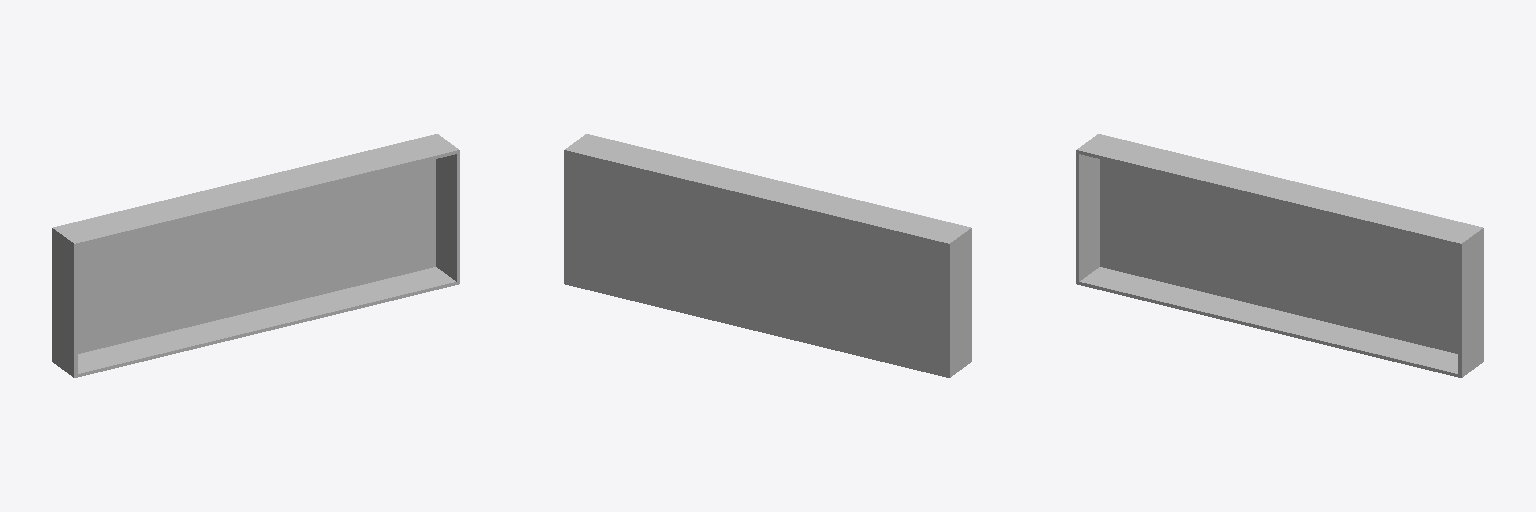
The picture shows the model from 3 angles: view 1: azimuth 30°, elevation 25°; view 2: azimuth 150°, elevation 25°; view 3: azimuth 330°, elevation 25°; orthographic projection.
Visible parts, largest first — view 1: obj_0; view 2: obj_0; view 3: obj_0.
Boxes of the visible parts, box(x1,y1,x2,y2) form: obj_0: box(52, 134, 459, 377); obj_0: box(564, 134, 971, 377); obj_0: box(1076, 134, 1483, 377).
Bounding box in the file's own units: 60 × 20 × 6.